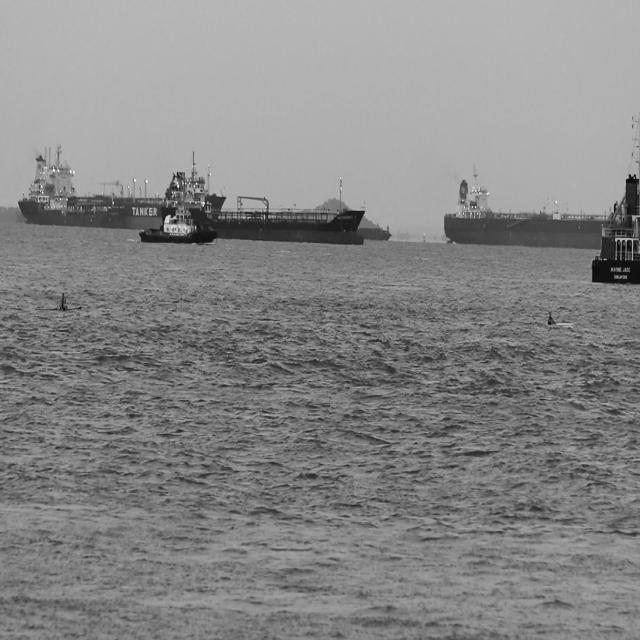ship: (157, 154, 366, 248), (442, 164, 612, 251), (591, 115, 639, 289), (138, 180, 218, 246), (358, 222, 392, 242)
